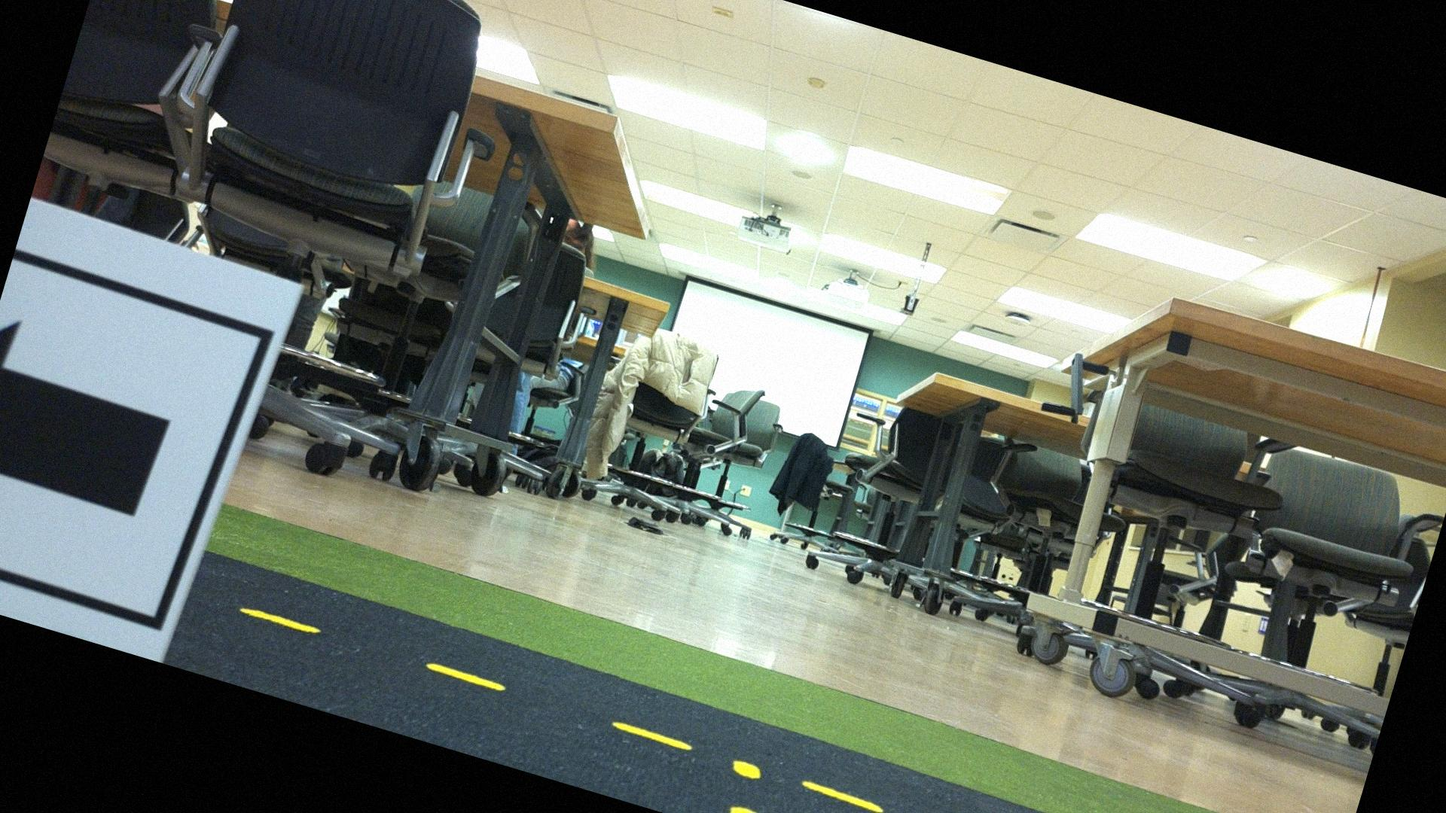yellowline: (237, 602, 1299, 812)
